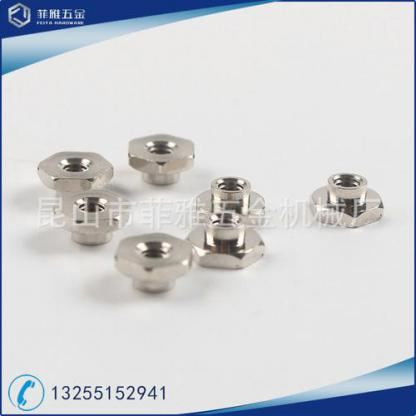FOD: (110, 232, 196, 294), (184, 215, 272, 271), (54, 190, 135, 246), (306, 170, 384, 228), (36, 151, 116, 203), (125, 131, 195, 186), (192, 178, 269, 226)
